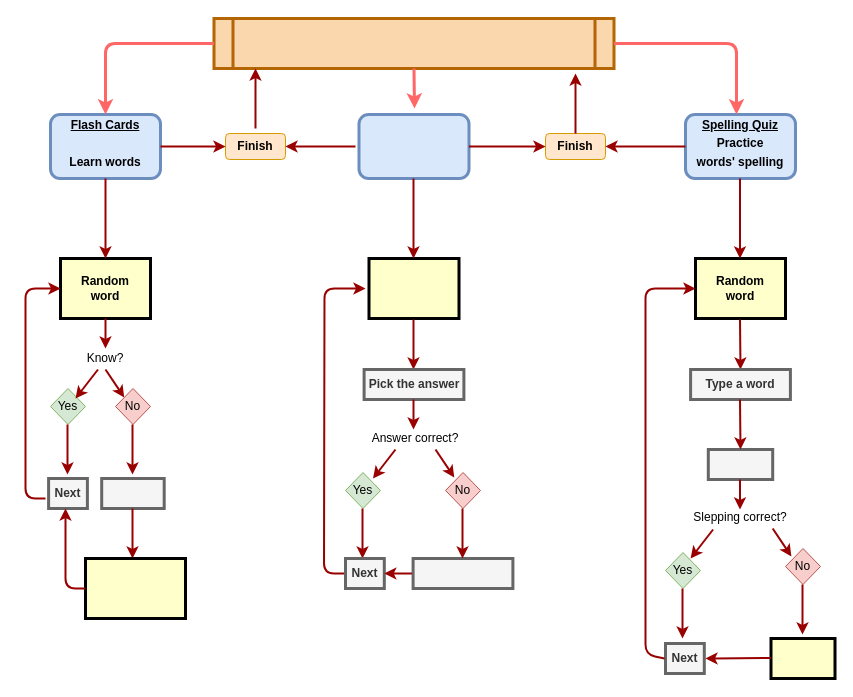
Some shapes in this 853 by 697 pixel diagram are drawn without their labels. The shapes that lost their labels are listed below. From the top down, each one's centre as x and y in pixels, then its label:
point 413,43: Menu Page
point 413,146: Grammar Quiz Practice grammatical rules
point 413,288: Random question
point 740,464: Check spelling
point 132,493: Turn card
point 135,588: Learn: -meaning; -Pronunciation;
point 462,573: Find the correct answer
point 802,658: Analyze mistakes
